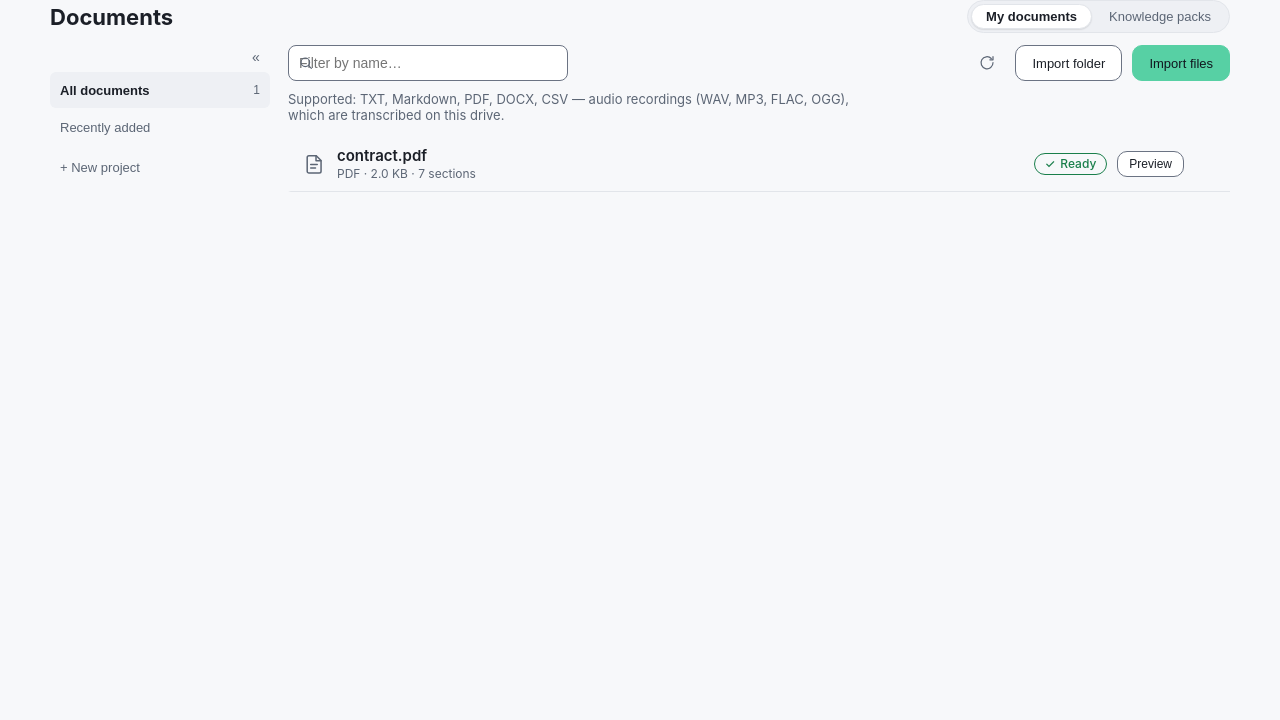
Scenario: DocumentsScreen › opens the read-only preview modal with the extracted text and closes it
Expected: the text "contract.pdf" is shown, [337,146,427,164]
Click the button "Preview": (1151, 164) [1117,150,1184,176]
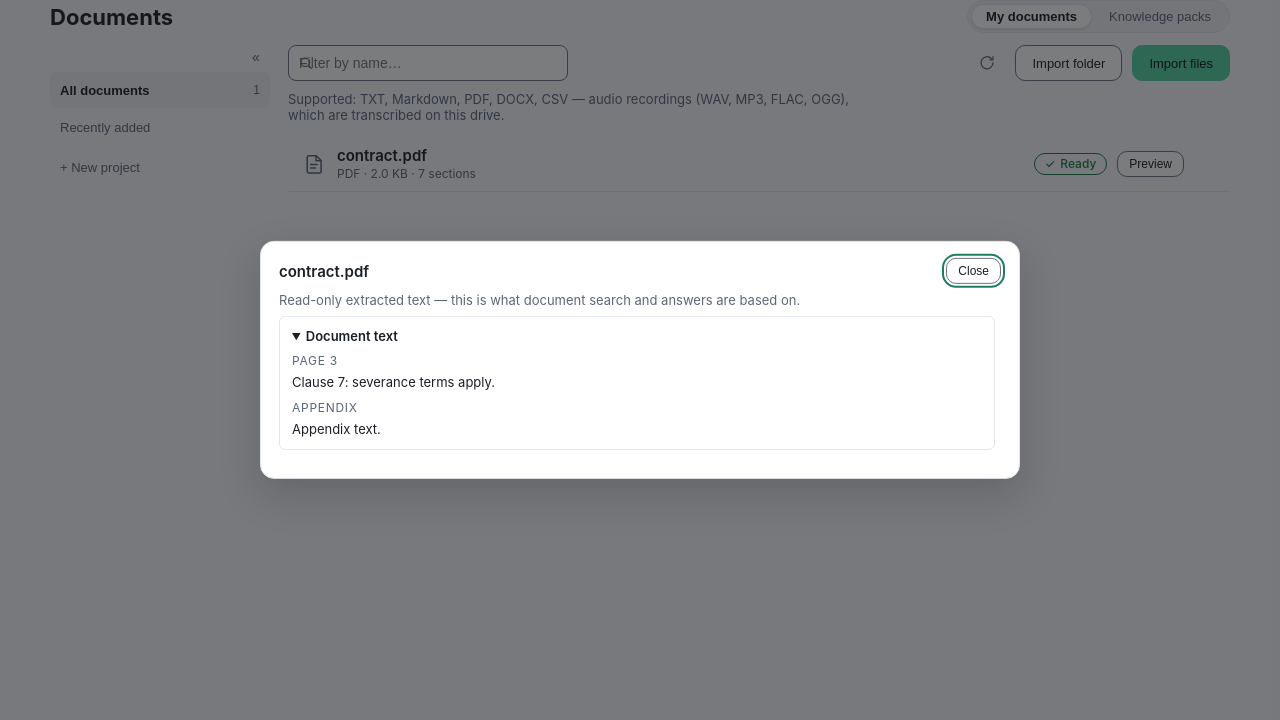
Now the text "Clause 7: severance terms apply." is shown, box [292,374,495,390]
Now the text "Page 3" is shown, box [292,353,338,368]
Now the text "Appendix" is shown, box [292,400,358,415]
Click the button "Close": (974, 271) [946,258,1001,284]
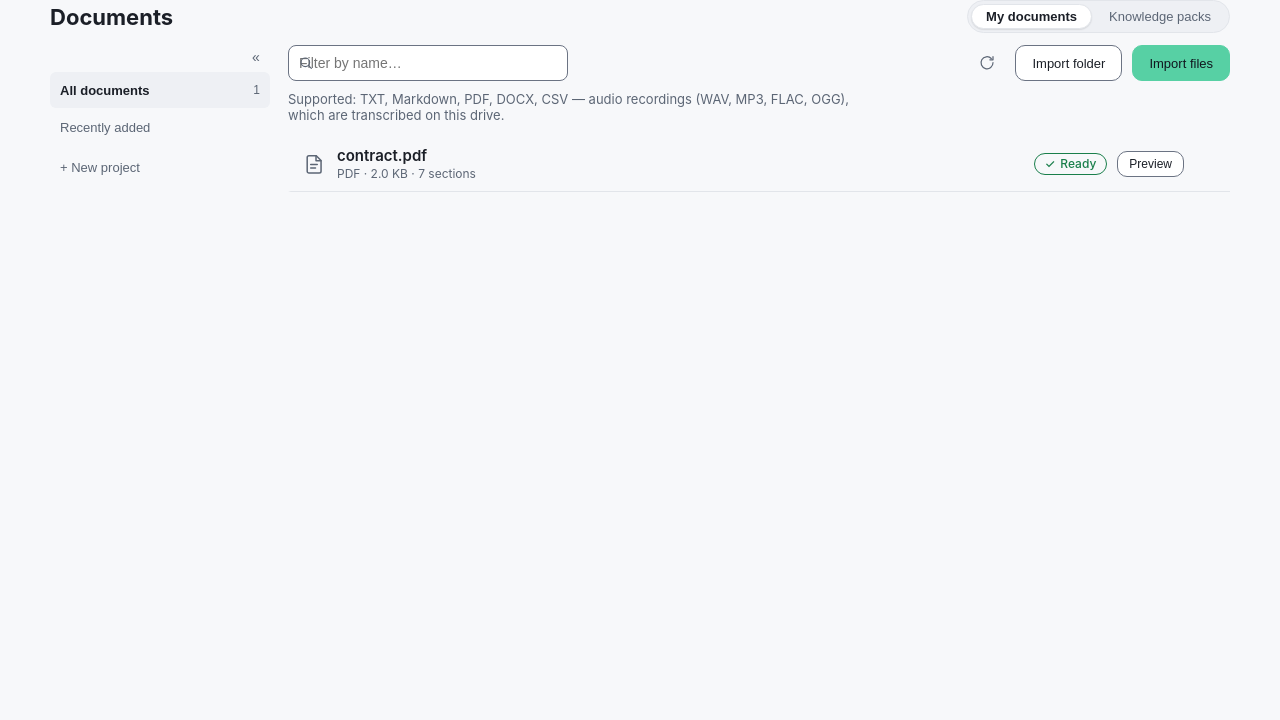
Now the dialog is gone
